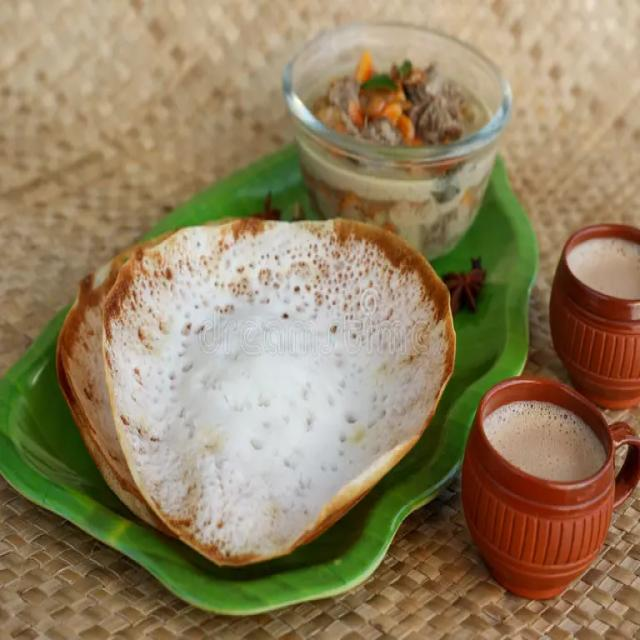AAPAM: (57, 218, 455, 565)
CURRY: (283, 22, 512, 168)
